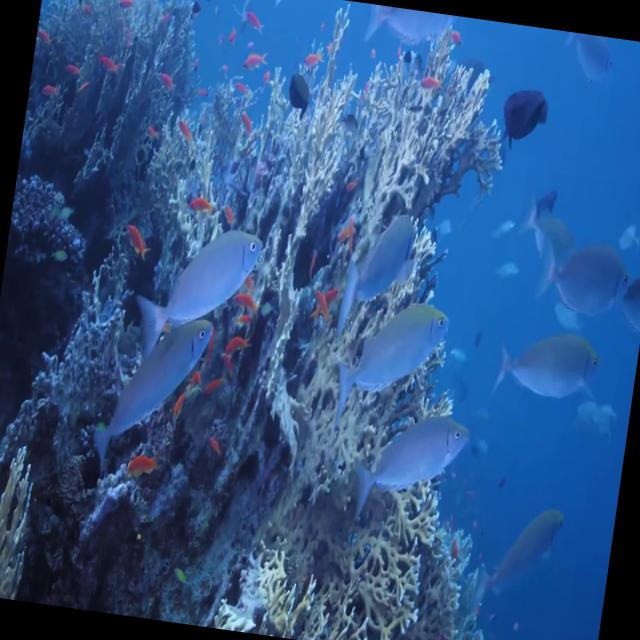fish: (89, 304, 221, 482), (128, 219, 268, 370), (326, 296, 454, 436), (348, 400, 472, 542), (487, 324, 607, 421), (333, 210, 430, 328), (530, 227, 636, 319)
